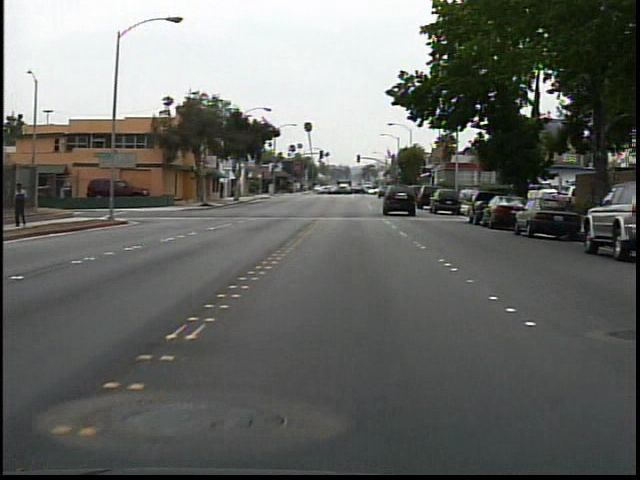person: (11, 180, 37, 231)
